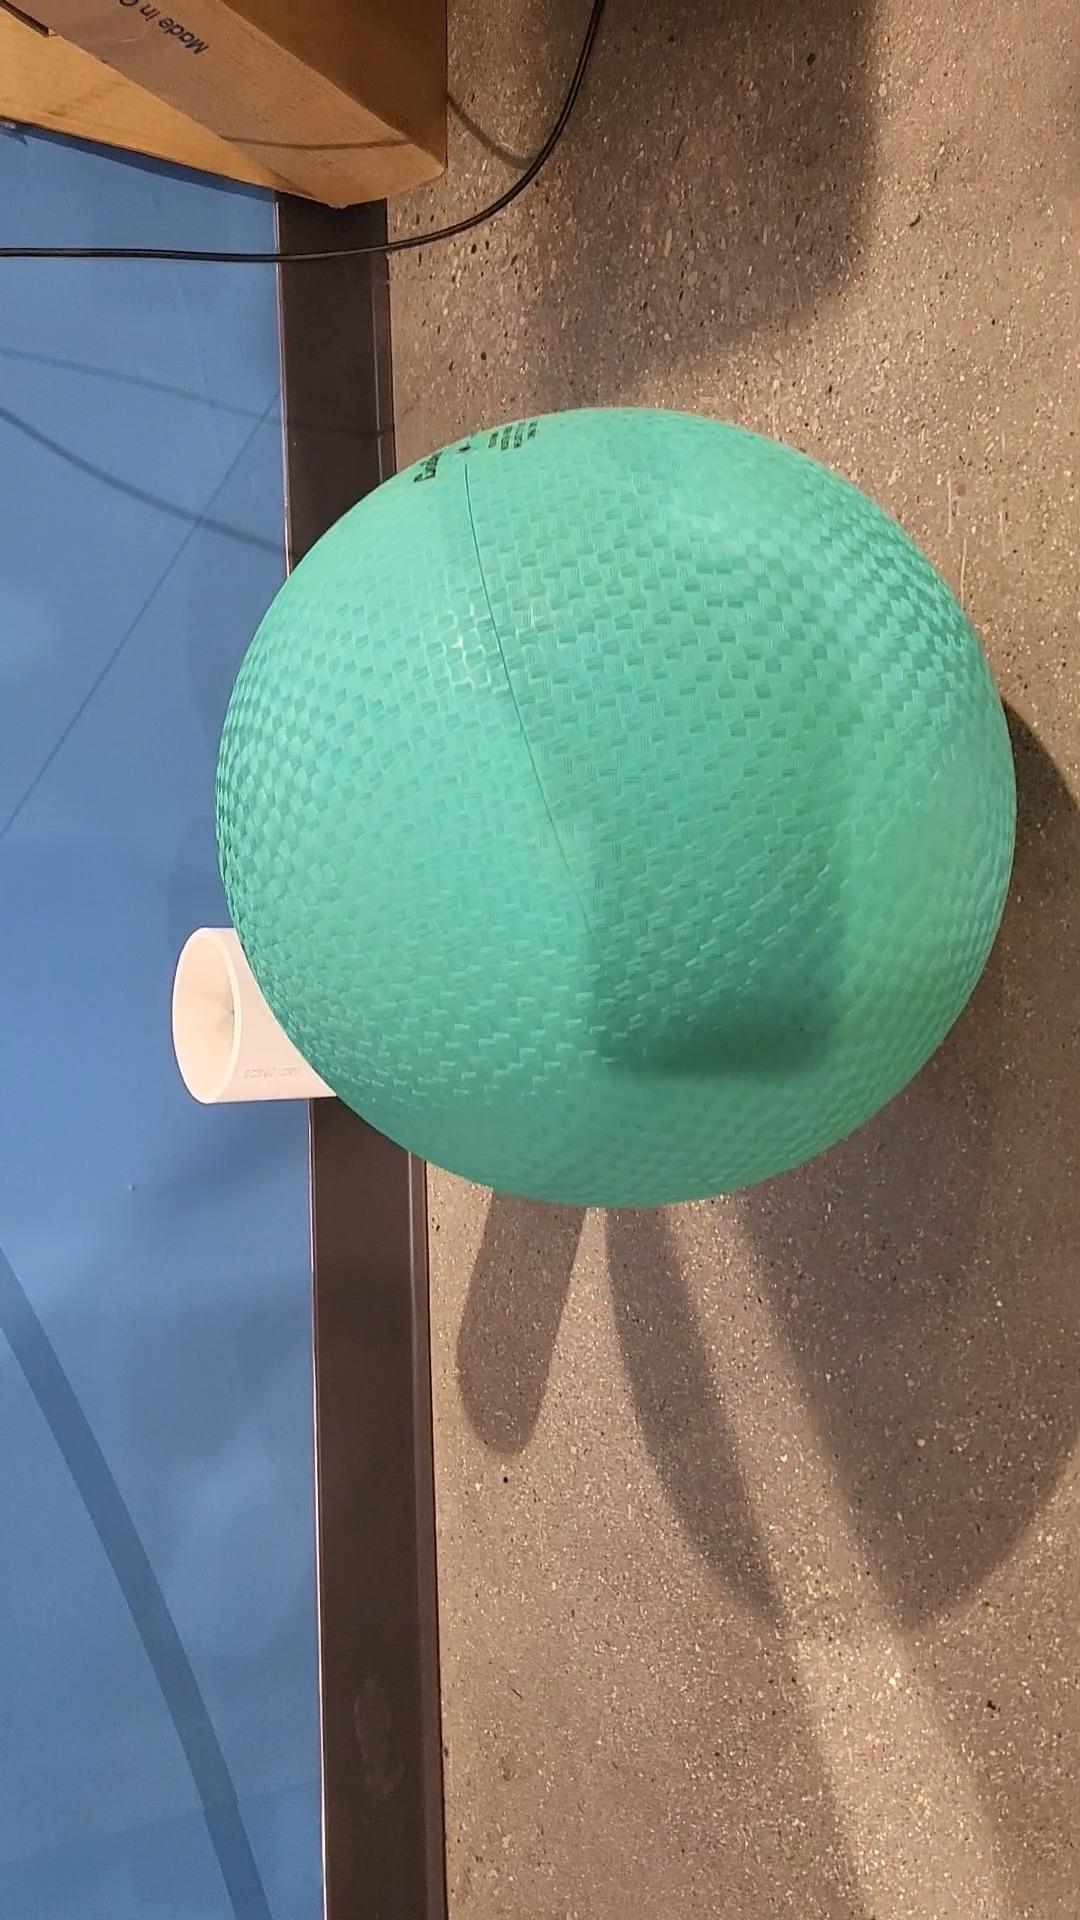algae: (215, 410, 1010, 1212)
coral: (173, 920, 340, 1102)
